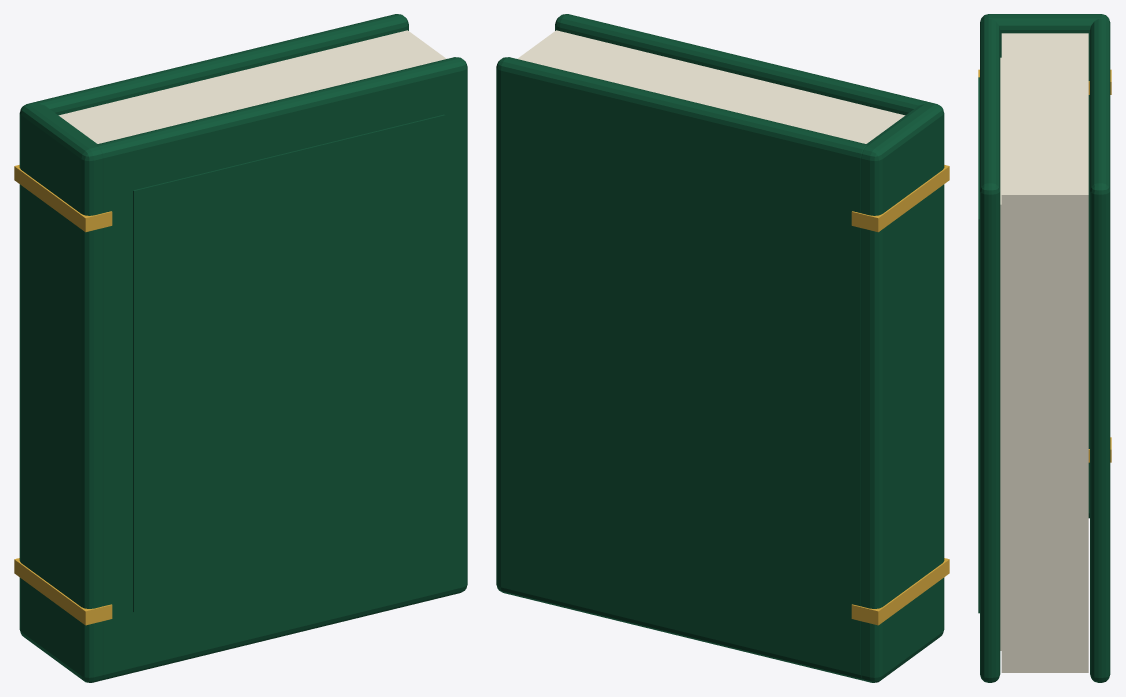
File: libro.glb
3 renders of one model, left to right at view 1: azimuth 30°, elevation 25°; view 2: azimuth 150°, elevation 25°; view 3: azimuth 270°, elevation 25°, orthographic. The views are drawn at different scales.
Parts seen in each view (by area): view 1: tapa, Cube.001, Cube.004, Cube, Cube.002, Cube.003; view 2: Cube, Cube.001, Cube.004, tapa, Cube.002, Cube.003; view 3: Cube.004, tapa, Cube, Cube.001, pagina.
Boxes of the visible parts, x1,y1,x2,y2 form: tapa: (96,57,467,680); Cube.001: (19,102,102,682); Cube.004: (58,30,446,143); Cube: (36,14,408,115); Cube.002: (14,558,112,625); Cube.003: (14,165,112,232); Cube: (496,57,867,680); Cube.001: (861,102,944,682); Cube.004: (517,30,905,143); tapa: (555,14,927,115); Cube.002: (851,558,949,625); Cube.003: (851,165,949,232); Cube.004: (1001,33,1088,672); tapa: (978,19,1000,682); Cube: (1090,19,1110,682); Cube.001: (980,14,1110,518); pagina: (1000,57,1001,650).
Bounding box in the file's own units: 1.44 × 1.9 × 0.461.
